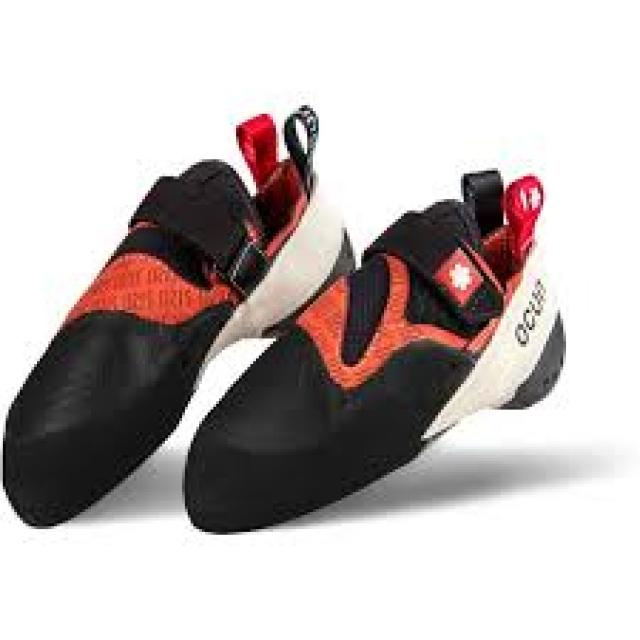climbing-shoes: (1, 108, 346, 526), (185, 166, 568, 536)
